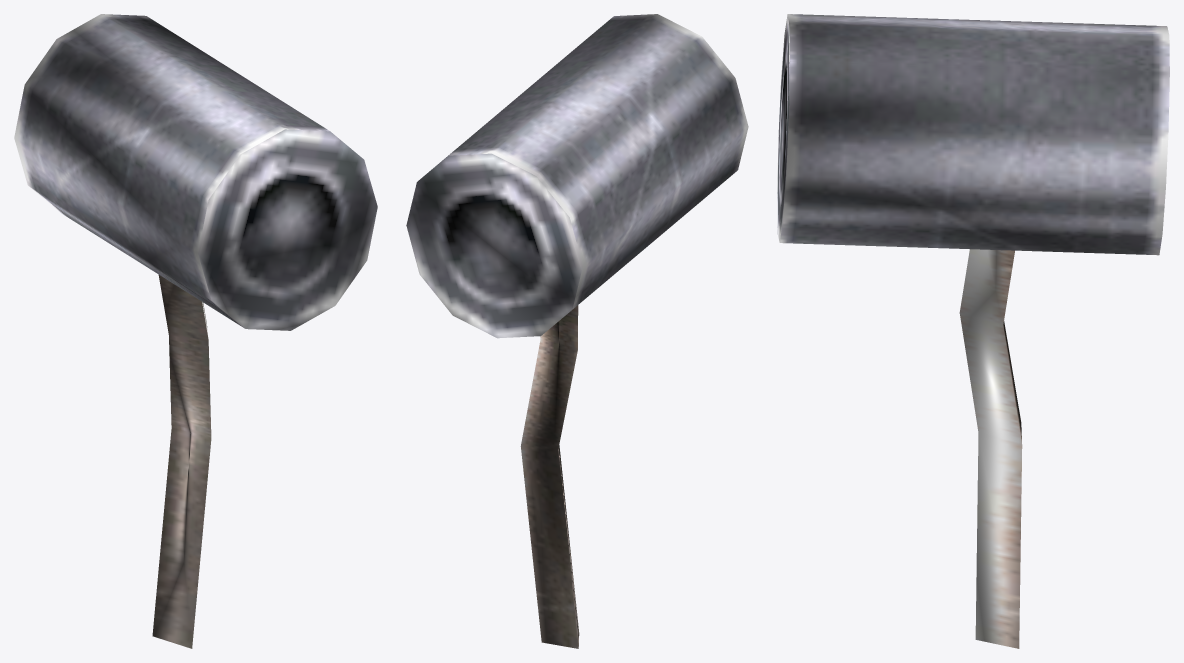
File: Robot01.RightHip4.fbx
The picture shows the model from 3 angles, left to right: view 1: azimuth 30°, elevation 25°; view 2: azimuth 150°, elevation 25°; view 3: azimuth 270°, elevation 25°; orthographic projection. The views are drawn at different scales.
Visible parts, largest first — view 1: Robot.018; view 2: Robot.018; view 3: Robot.018.
Part boxes in pixels (<box>): Robot.018: <box>14,14,377,648</box>; Robot.018: <box>406,14,748,648</box>; Robot.018: <box>777,14,1169,648</box>.
Size of the model in its own units: 15.56 by 46.17 by 26.55.
